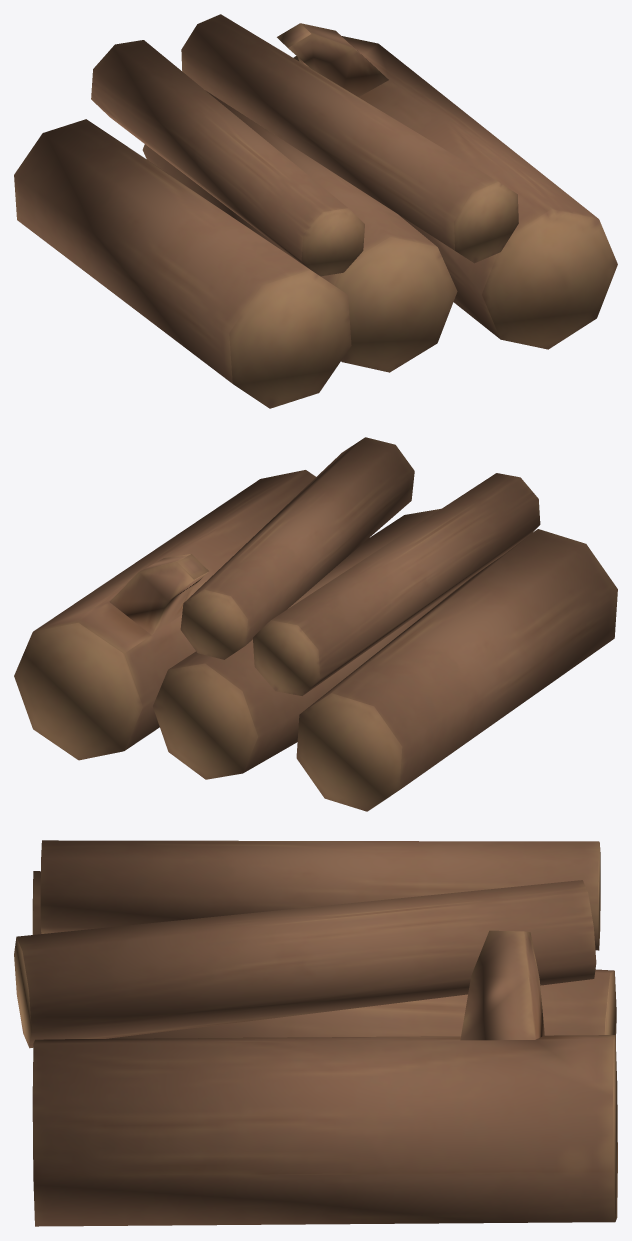
The model's file is logs_pickup.glb.
The picture shows the model from 3 angles, top to bottom: view 1: azimuth 30°, elevation 25°; view 2: azimuth 150°, elevation 25°; view 3: azimuth 270°, elevation 25°; orthographic projection. The views are drawn at different scales.
Visible parts, largest first — view 1: Logs; view 2: Logs; view 3: Logs.
Part boxes in pixels (box(x1,y1,x2,y2)): Logs: box(14, 14, 617, 408); Logs: box(14, 437, 617, 811); Logs: box(14, 840, 617, 1226).
Size of what is drawn, in the model's own units: 0.6532 by 0.3217 by 0.6771.
Materials: 1 (1 with a texture image).
